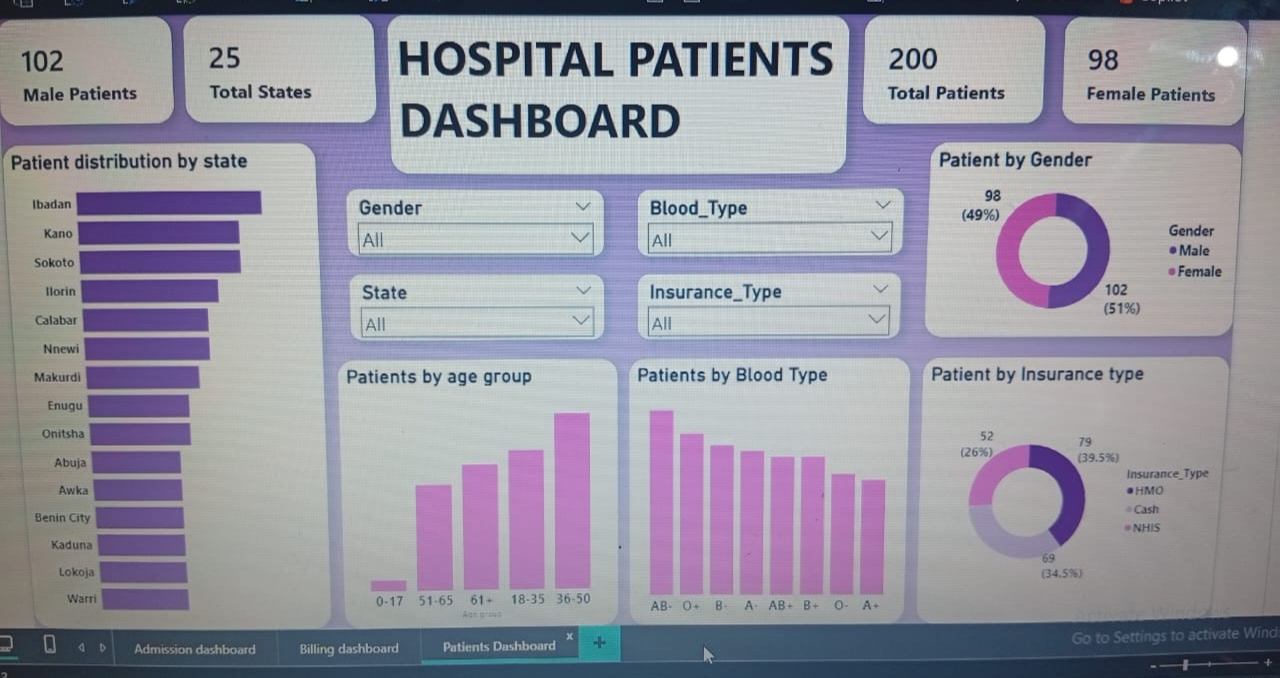

What the dashboard file says about the page in this screenshot:
{"tool":"powerbi","page":{"name":"Patients Dashboard","canvas":[2000,1000],"ordinal":2},"visuals":[{"type":"donutChart","title":"Patient by Gender","fields":{"Category":["Patients.Gender"],"Y":["Admissions.Patient id second"]},"box":[1483.9,197.8,516.1,316.1],"z":0},{"type":"cardVisual","fields":{"Data":["Admissions.Overall Total Patient"]},"box":[1372,0,290.3,169.9],"z":1000},{"type":"cardVisual","fields":{"Data":["Admissions.Male Patients"]},"box":[0,0,286,167.7],"z":2000},{"type":"cardVisual","fields":{"Data":["Admissions.Female Patients"]},"box":[1692.5,0,307.5,169.9],"z":3000},{"type":"cardVisual","fields":{"Data":["Admissions.States represented"]},"box":[303.2,0,301.1,167.7],"z":4000},{"type":"clusteredBarChart","title":"Patient distribution by state","fields":{"Category":["Patients.State"],"Y":["Admissions.Patient id second"]},"box":[0,197.8,505.4,802.2],"z":5000},{"type":"clusteredColumnChart","title":"Patients by Blood Type","fields":{"Category":["Patients.Blood_Type"],"Y":["Admissions.Patient id second"]},"box":[1000,544.1,464.5,455.9],"z":6000},{"type":"donutChart","title":"Patient by Insurance type","fields":{"Category":["Patients.Insurance_Type"],"Y":["Admissions.Patient id second"]},"box":[1483.9,544.1,516.1,455.9],"z":7000},{"type":"clusteredColumnChart","title":"Patients by age group","fields":{"Category":["Patients.Age group"],"Y":["Admissions.Patient id second"]},"box":[524.7,544.1,458.1,455.9],"z":8000},{"type":"slicer","fields":{"Values":["Patients.Gender"]},"box":[548.4,268.8,412.9,109.7],"z":9000},{"type":"slicer","fields":{"Values":["Patients.State"]},"box":[548.4,404.3,412.9,109.7],"z":10000},{"type":"slicer","fields":{"Values":["Patients.Insurance_Type"]},"box":[1015.1,404.3,432.3,109.7],"z":11000},{"type":"slicer","fields":{"Values":["Patients.Blood_Type"]},"box":[1015.1,268.8,432.3,109.7],"z":12000},{"type":"textbox","box":[621.5,0,729,247.3],"z":13000}]}

Visuals, with their boxes on the page's 2000x1000 design canvas (x1, y1, x2, y2). These are canvas units, not pixel positions in the 1280x678 screenshot, which may show the page scaled, cropped or inside an application window:
"Patient by Gender" donutChart: x1=1484 y1=198 x2=2000 y2=514
cardVisual - Admissions.Overall Total Patient: x1=1372 y1=0 x2=1662 y2=170
cardVisual - Admissions.Male Patients: x1=0 y1=0 x2=286 y2=168
cardVisual - Admissions.Female Patients: x1=1692 y1=0 x2=2000 y2=170
cardVisual - Admissions.States represented: x1=303 y1=0 x2=604 y2=168
"Patient distribution by state" clusteredBarChart: x1=0 y1=198 x2=505 y2=1000
"Patients by Blood Type" clusteredColumnChart: x1=1000 y1=544 x2=1464 y2=1000
"Patient by Insurance type" donutChart: x1=1484 y1=544 x2=2000 y2=1000
"Patients by age group" clusteredColumnChart: x1=525 y1=544 x2=983 y2=1000
slicer - Patients.Gender: x1=548 y1=269 x2=961 y2=378
slicer - Patients.State: x1=548 y1=404 x2=961 y2=514
slicer - Patients.Insurance_Type: x1=1015 y1=404 x2=1447 y2=514
slicer - Patients.Blood_Type: x1=1015 y1=269 x2=1447 y2=378
textbox: x1=622 y1=0 x2=1350 y2=247
